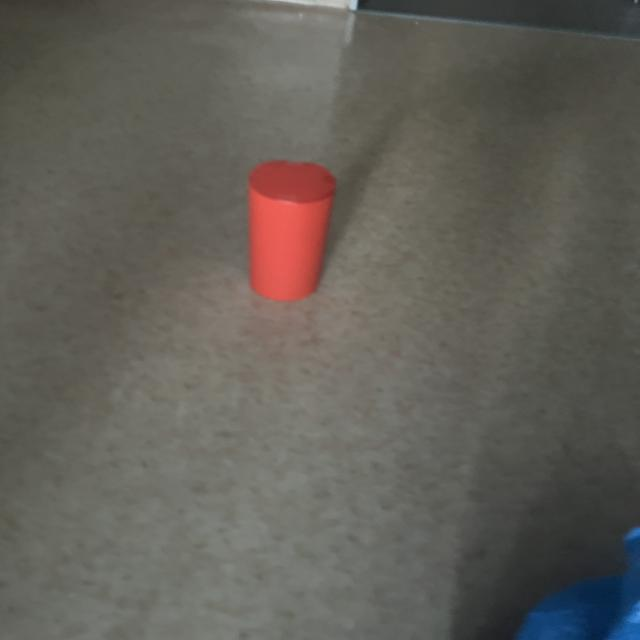przeszkoda: (248, 161, 335, 301)
